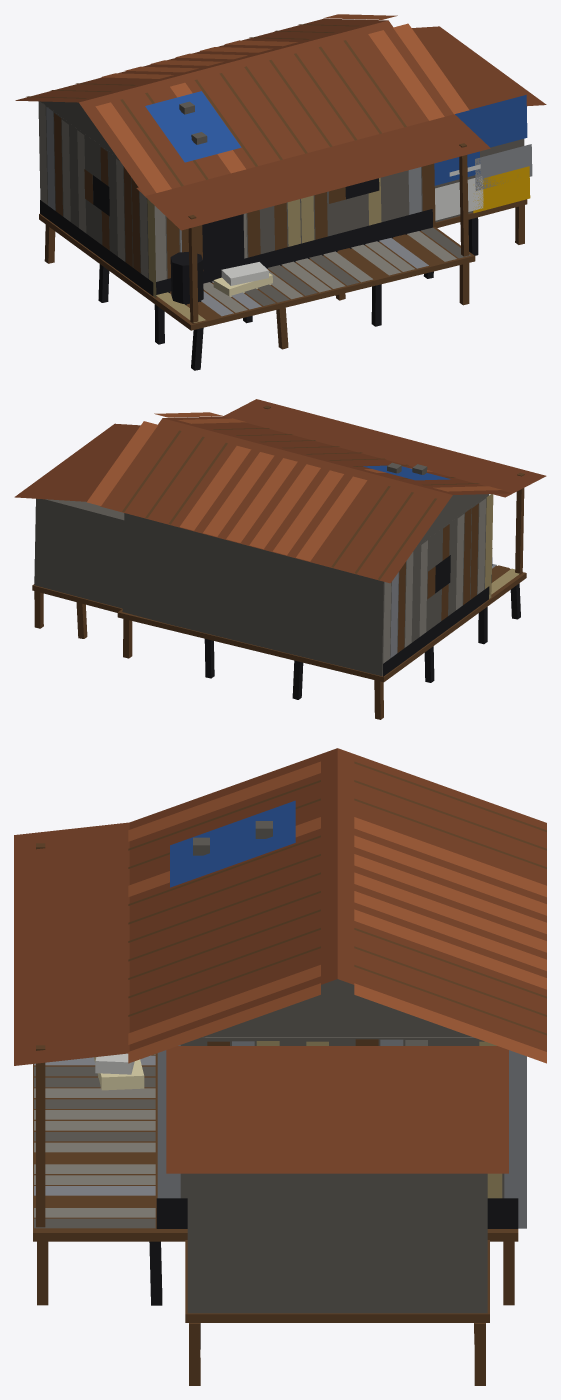
File: building_makoko-house_e.648c3033cb06.glb
The picture shows the model from 3 angles, top to bottom: view 1: azimuth 30°, elevation 25°; view 2: azimuth 150°, elevation 25°; view 3: azimuth 270°, elevation 25°; orthographic projection. The views are drawn at different scales.
Visible parts, largest first — view 1: body; view 2: body; view 3: body.
Boxes of the visible parts, x1,y1,x2,y2 form: body: (15, 14, 546, 370); body: (14, 399, 546, 719); body: (14, 748, 546, 1385).
Size of the model in its own units: 8.03 by 3.91 by 5.6.
